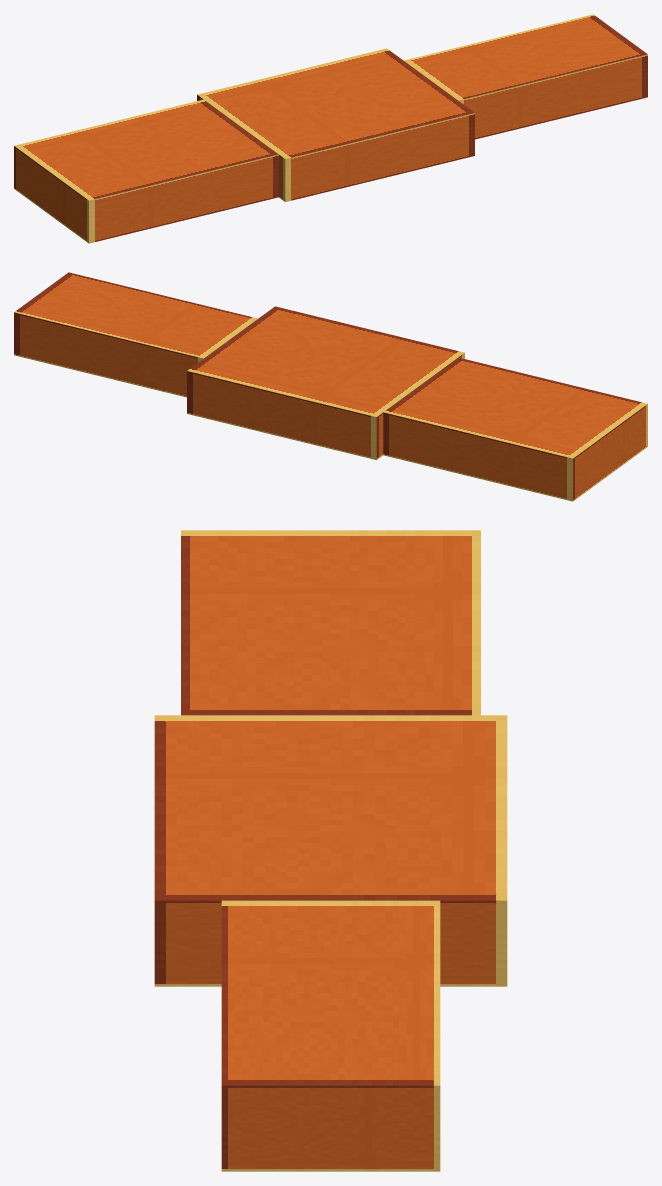
The model's file is bench_qingxiao_liuyun_sword_0_hot.obj.
3 views of the same model, one above another, from view 1: azimuth 30°, elevation 25°; view 2: azimuth 150°, elevation 25°; view 3: azimuth 270°, elevation 25° (orthographic). The views are drawn at different scales.
Visible parts, largest first — view 1: geometry; view 2: geometry; view 3: geometry.
Part boxes in pixels (x1=…): geometry: x1=14, y1=14, x2=647, y2=243; geometry: x1=14, y1=272, x2=647, y2=501; geometry: x1=154, y1=530, x2=507, y2=1171.
Size of the model in its own units: 0.75 by 0.0542 by 0.2013.
